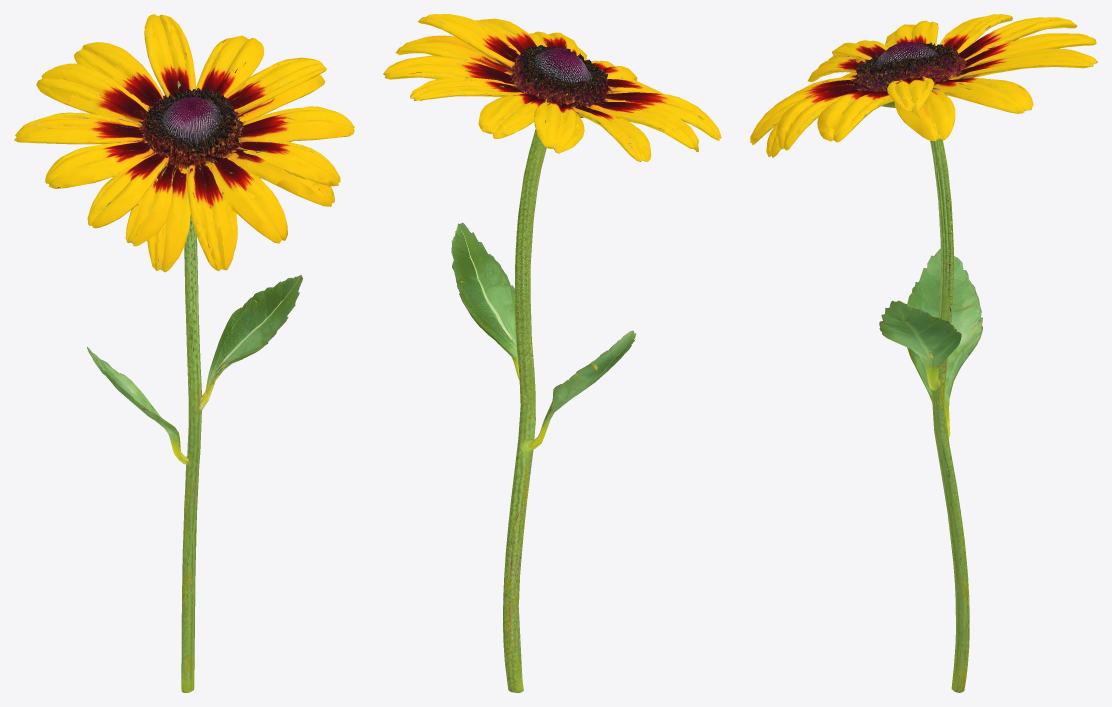
Rendered from rudbeckia-07.glb.
The picture shows the model from 3 angles, left to right: view 1: azimuth 30°, elevation 25°; view 2: azimuth 150°, elevation 25°; view 3: azimuth 270°, elevation 25°; orthographic projection. The views are drawn at different scales.
Bounding box in the file's own units: 0.9021 × 1.9 × 0.9204.
Materials: 1 (1 with a texture image).
